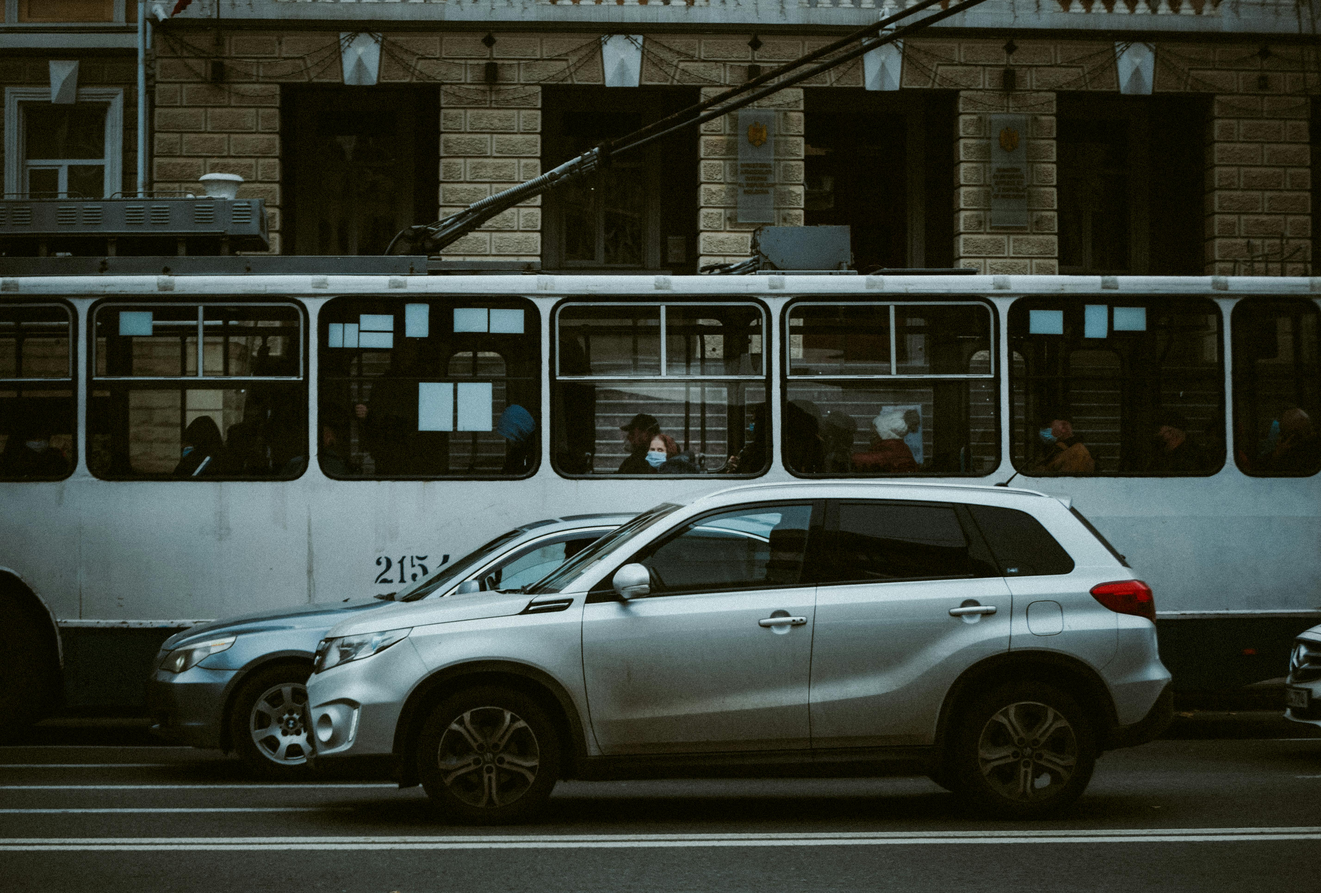other: (316, 477, 1171, 814), (155, 505, 867, 780)
